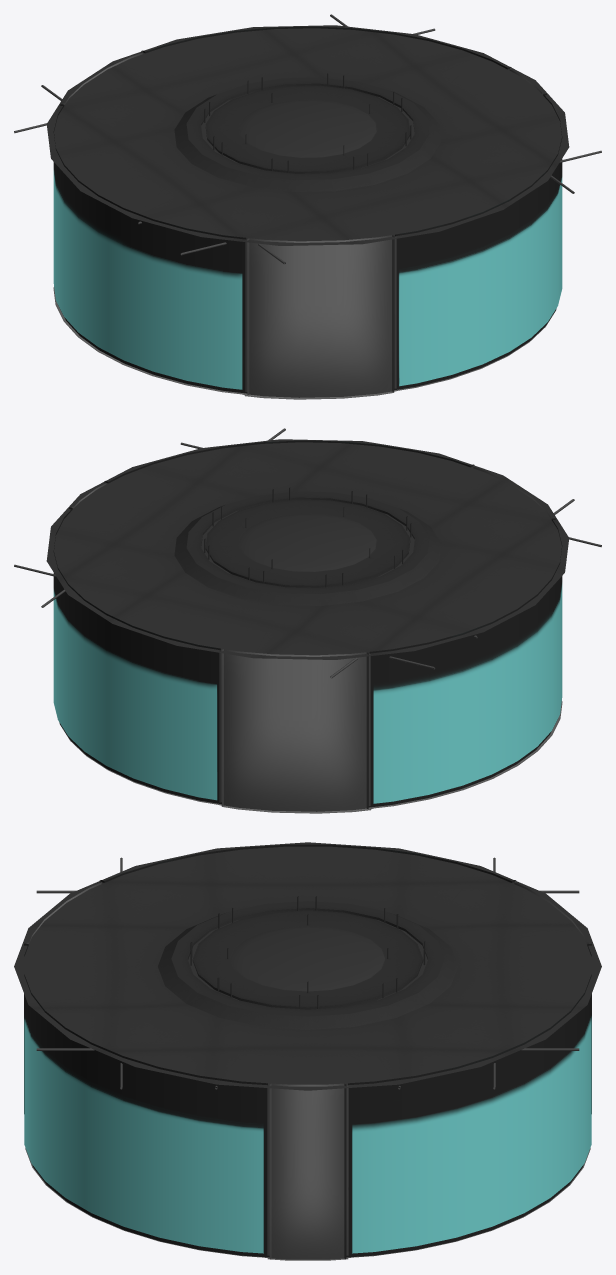
The model's file is SceneAll.fbx.
3 renders of one model, top to bottom at view 1: azimuth 30°, elevation 25°; view 2: azimuth 150°, elevation 25°; view 3: azimuth 270°, elevation 25°, orthographic. The views are drawn at different scales.
Visible parts, largest first — view 1: Plafond, Wall, Floor, Stature; view 2: Plafond, Wall, Floor, Stature; view 3: Plafond, Wall, Stature, Floor.
Part boxes in pixels (x1,y1,x2,y2): Plafond: (46,25,569,245); Wall: (53,26,562,397); Floor: (53,287,555,399); Stature: (14,14,601,264); Plafond: (46,439,569,659); Wall: (53,440,562,811); Floor: (60,701,562,813); Stature: (14,428,601,678); Plafond: (14,842,601,1090); Wall: (24,844,591,1259); Stature: (36,857,579,1089); Floor: (25,1148,590,1260).
Bounding box in the file's own units: 6.67 × 2.47 × 6.67.
10 materials, 10 textured.
